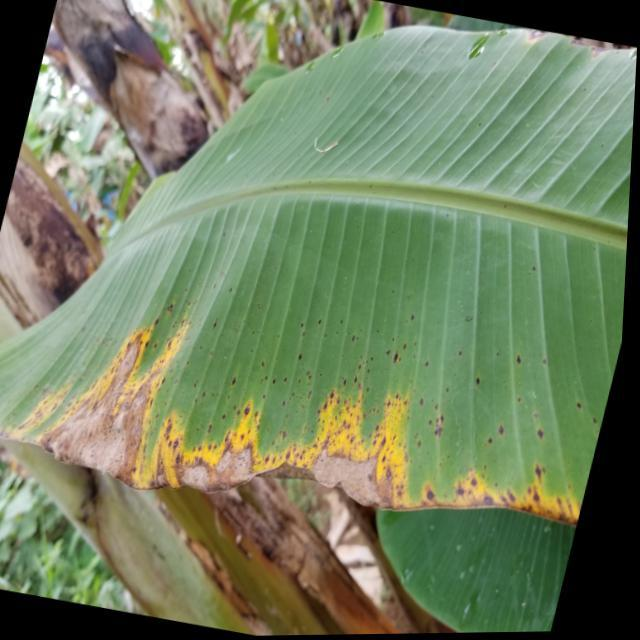Early_rust: (0, 284, 602, 576)
